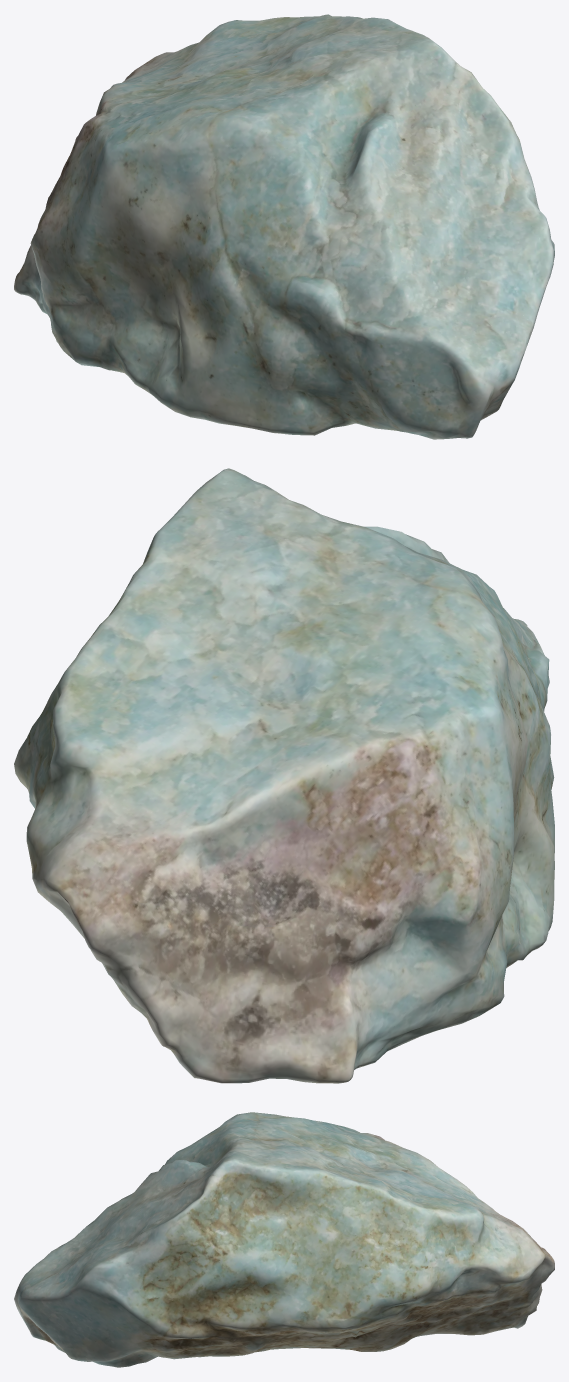
Rendered from amazonite.glb.
3 renders of one model, top to bottom at view 1: azimuth 30°, elevation 25°; view 2: azimuth 150°, elevation 25°; view 3: azimuth 270°, elevation 25°, orthographic. The views are drawn at different scales.
Visible parts, largest first — view 1: Turquoise_lambert1_0; view 2: Turquoise_lambert1_0; view 3: Turquoise_lambert1_0.
Boxes of the visible parts, x1,y1,x2,y2 form: Turquoise_lambert1_0: (14,14,554,439); Turquoise_lambert1_0: (14,468,554,1083); Turquoise_lambert1_0: (14,1112,554,1367).
Bounding box in the file's own units: 19.87 × 16.58 × 34.09.
Materials: 1 (1 with a texture image).
